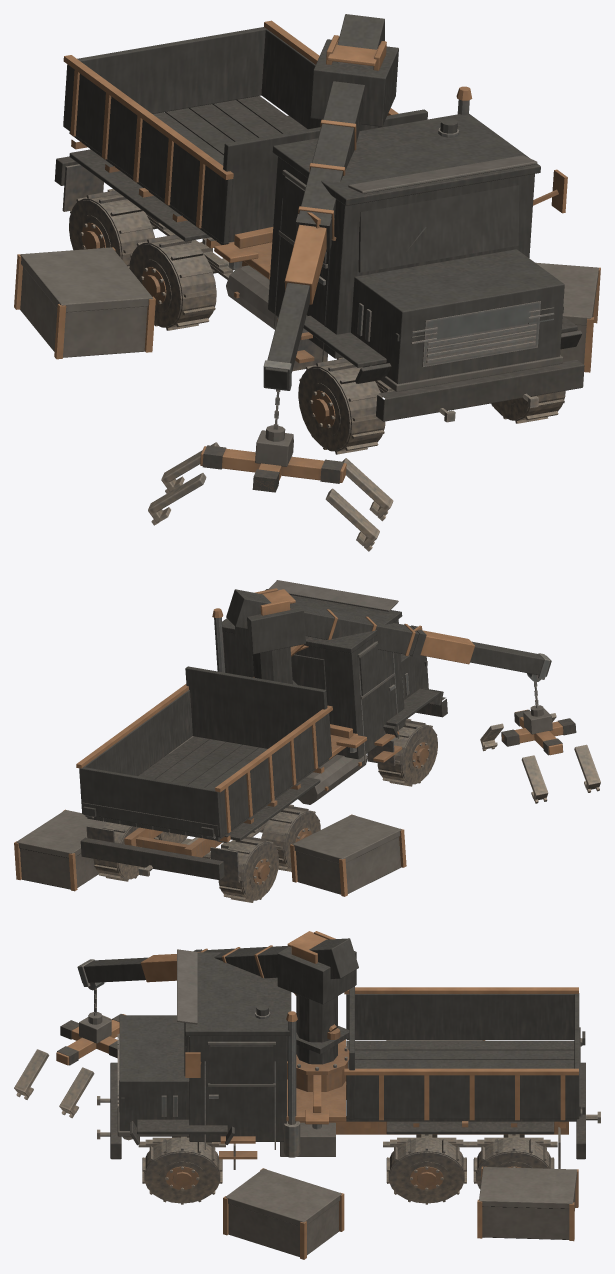
The model's file is voorraadtruck_wrak_v1.glb.
3 views of the same model, one above another, from view 1: azimuth 30°, elevation 25°; view 2: azimuth 150°, elevation 25°; view 3: azimuth 270°, elevation 25° (orthographic). The views are drawn at different scales.
Visible parts, largest first — view 1: Carrosserie, Wrak_kisten, Glas, Techniek, Beslag, Gevaarband, Giek_buis, Carrosserie_donker, Band_FL, Band_ML, Laadvloer, Kolom_romp (+15 smaller); view 2: Carrosserie, Wrak_kisten, Beslag, Gevaarband, Laadvloer, Giek_buis, Kolom_romp, Carrosserie_donker, Band_RL, Glas, Band_FL, Band_ML (+13 smaller); view 3: Carrosserie, Wrak_kisten, Laadvloer, Beslag, Kolom_romp, Techniek, Band_MR, Band_FR, Carrosserie_donker, Kraanvoet, Glas, Giek_buis (+14 smaller).
Boxes of the visible parts, x1,y1,x2,y2 form: Carrosserie: [63, 27, 582, 383]; Wrak_kisten: [20, 247, 598, 364]; Glas: [281, 176, 519, 272]; Techniek: [107, 99, 554, 422]; Beslag: [63, 20, 567, 363]; Gevaarband: [54, 156, 584, 421]; Giek_buis: [299, 14, 384, 239]; Carrosserie_donker: [226, 155, 563, 391]; Band_FL: [298, 358, 385, 454]; Band_ML: [129, 234, 216, 330]; Laadvloer: [69, 96, 305, 244]; Kolom_romp: [310, 39, 398, 130]; Carrosserie: [79, 589, 443, 840]; Wrak_kisten: [16, 736, 401, 894]; Beslag: [76, 608, 422, 857]; Gevaarband: [80, 697, 447, 880]; Laadvloer: [87, 736, 328, 840]; Giek_buis: [226, 589, 418, 655]; Kolom_romp: [235, 602, 305, 684]; Carrosserie_donker: [268, 580, 398, 804]; Band_RL: [218, 836, 278, 902]; Glas: [248, 645, 392, 695]; Band_FL: [377, 720, 437, 786]; Band_ML: [261, 805, 320, 871]; Carrosserie: [119, 952, 579, 1145]; Wrak_kisten: [225, 1040, 576, 1256]; Laadvloer: [346, 1040, 576, 1121]; Beslag: [185, 952, 578, 1159]; Kolom_romp: [277, 946, 356, 1064]; Techniek: [97, 1012, 600, 1157]; Band_MR: [386, 1136, 466, 1204]; Band_FR: [142, 1136, 222, 1204]; Carrosserie_donker: [117, 949, 335, 1156]; Kraanvoet: [286, 1039, 349, 1124]; Glas: [184, 1022, 287, 1083]; Giek_buis: [199, 938, 358, 979].
Bounding box in the file's own units: 6.93 × 3.86 × 8.41.
Materials: 1 (1 with a texture image).
